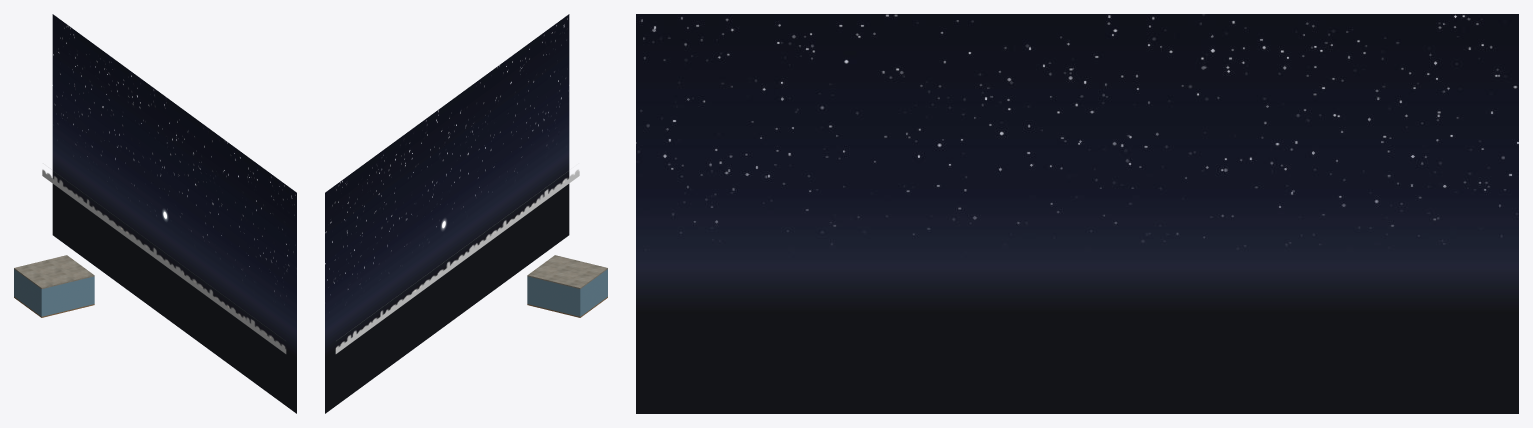
The model's file is bedroom_night.glb.
3 renders of one model, left to right at view 1: azimuth 30°, elevation 25°; view 2: azimuth 150°, elevation 25°; view 3: azimuth 270°, elevation 25°, orthographic. The views are drawn at different scales.
Parts seen in each view (by area): view 1: Night sky, Skyline, Ceiling, Wall south, Wall west; view 2: Night sky, Skyline, Ceiling, Wall north, Wall west; view 3: Night sky.
Boxes of the visible parts, left/top/right/bottom form: Night sky: left=52, top=14, right=296, bottom=413; Skyline: left=42, top=169, right=286, bottom=353; Ceiling: left=14, top=255, right=94, bottom=288; Wall south: left=41, top=276, right=94, bottom=316; Wall west: left=14, top=270, right=40, bottom=315; Night sky: left=325, top=14, right=569, bottom=413; Skyline: left=335, top=169, right=579, bottom=353; Ceiling: left=527, top=255, right=607, bottom=288; Wall north: left=527, top=276, right=580, bottom=316; Wall west: left=581, top=270, right=607, bottom=315; Night sky: left=636, top=14, right=1518, bottom=413.
Bounding box in the file's own units: 13.9 × 20 × 40.
Materials: 82 (53 with a texture image).
